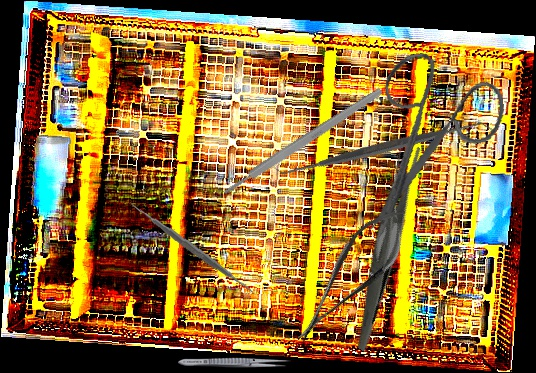Dressing Forceps: (296, 138, 472, 352), (178, 357, 291, 368)
Iris Scissors: (337, 39, 525, 241)
Micro Scissor: (278, 194, 425, 355)
Scalpel Handle: (221, 85, 384, 198)
Spatula Surgical: (273, 38, 493, 259), (130, 186, 254, 309)
